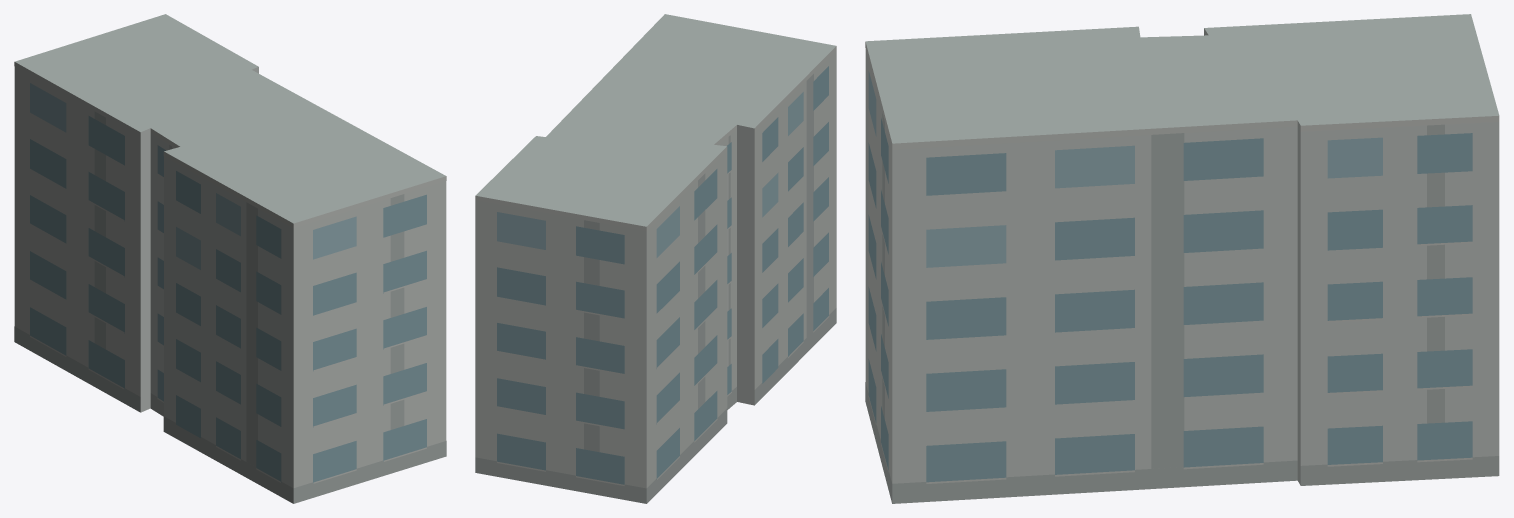
File: survey-upis-32576139.glb
3 views of the same model, side by side, from view 1: azimuth 30°, elevation 25°; view 2: azimuth 150°, elevation 25°; view 3: azimuth 270°, elevation 25° (orthographic). The views are drawn at different scales.
Visible parts, largest first — view 1: survey-upis-32576139.tmp; view 2: survey-upis-32576139.tmp; view 3: survey-upis-32576139.tmp.
Boxes of the visible parts, left/top/right/bottom form: survey-upis-32576139.tmp: left=14, top=14, right=446, bottom=503; survey-upis-32576139.tmp: left=475, top=14, right=836, bottom=503; survey-upis-32576139.tmp: left=865, top=14, right=1499, bottom=503.
Size of the model in its own units: 11.04 by 14.3 by 22.82.
